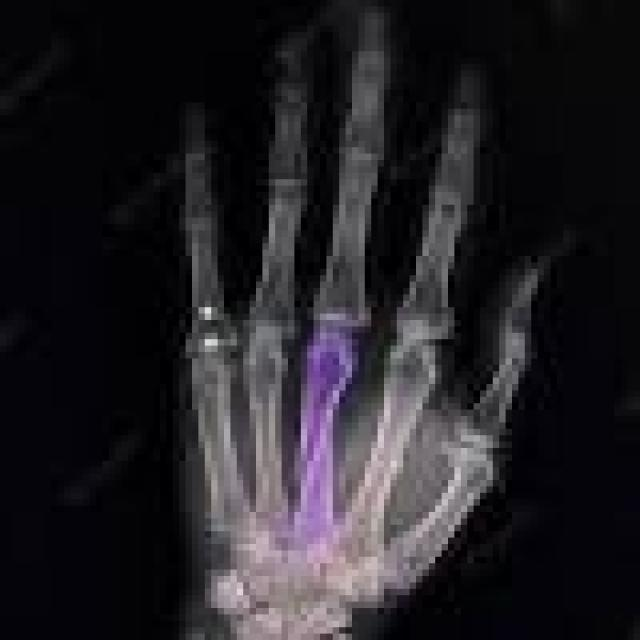Spiral: (280, 293, 374, 539)
